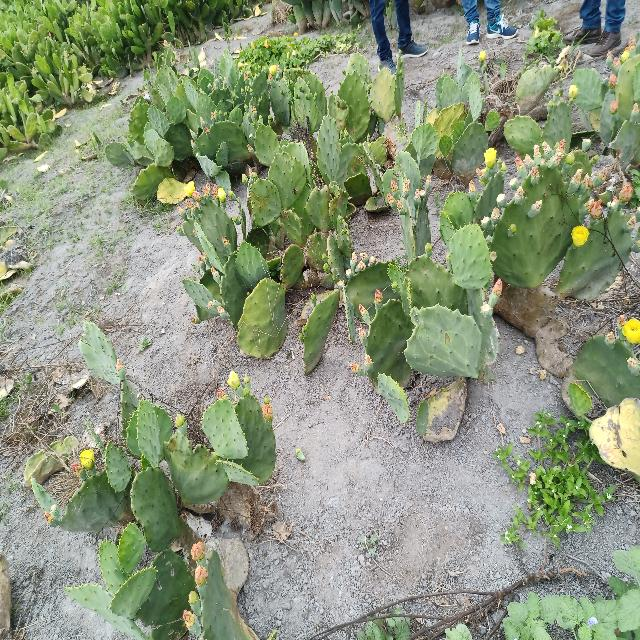adequadas para corte: (56, 189, 265, 406), (334, 138, 525, 343), (183, 186, 318, 370), (115, 30, 207, 193), (0, 183, 66, 328)
inadequadas para corte: (318, 192, 438, 352), (276, 40, 323, 313), (326, 7, 421, 136), (46, 42, 107, 193)
